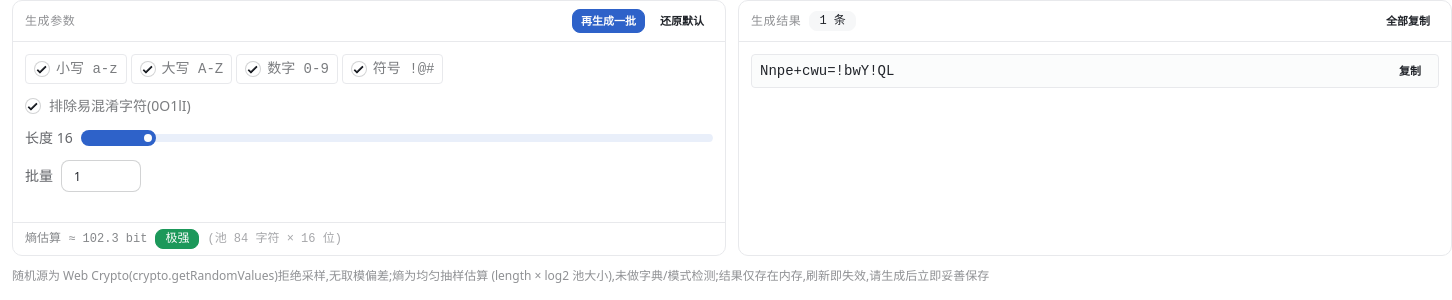
PasswordGenerator 交互 › 全部字符集关闭:明确报错并清空结果
Click the checkbox with test id "pwd-charset-lower" at point(42, 69), box [34, 61, 50, 77]
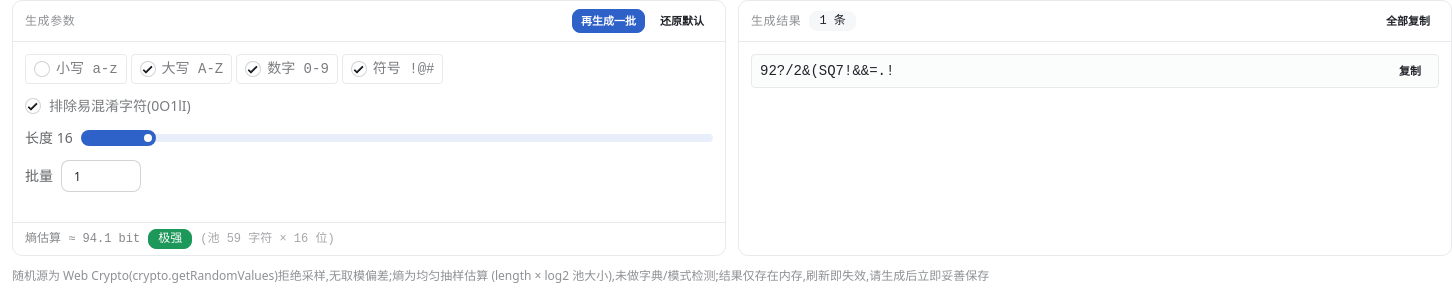
Click the checkbox with test id "pwd-charset-upper" at point(148, 69), box [140, 61, 156, 77]
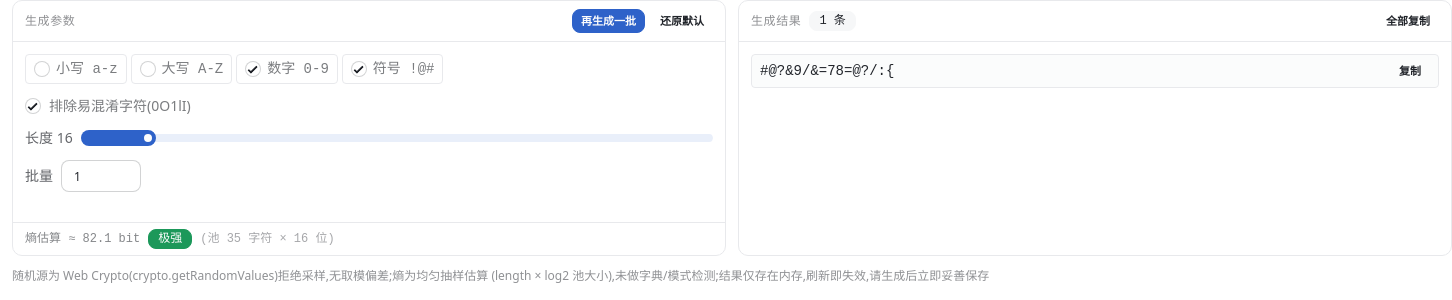
Click the checkbox labelled "数字 0-9" at point(253, 69), box [245, 61, 261, 77]
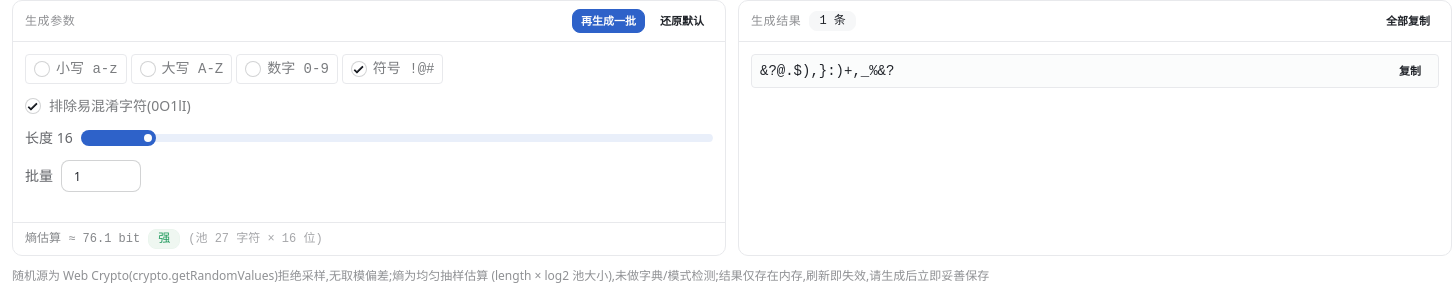
Click the checkbox with test id "pwd-charset-symbols" at point(359, 69), box [351, 61, 367, 77]
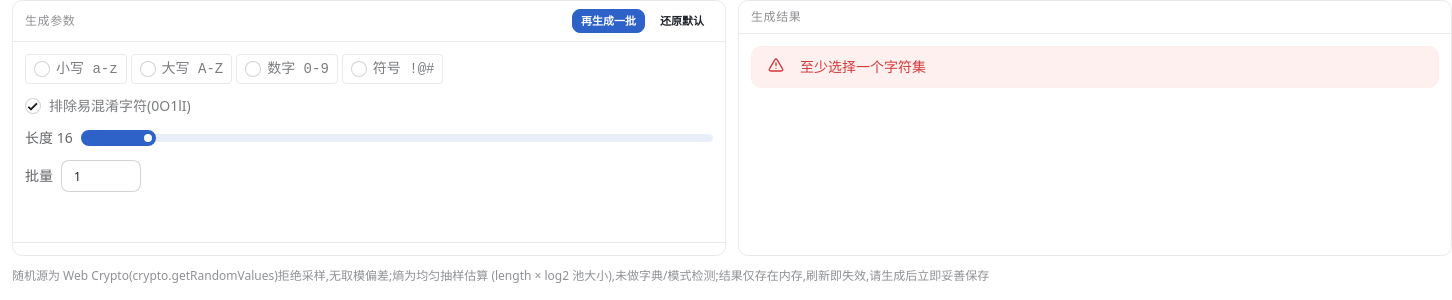
Expected: the text "至少选择一个字符集" is shown, [800, 57, 926, 77]
